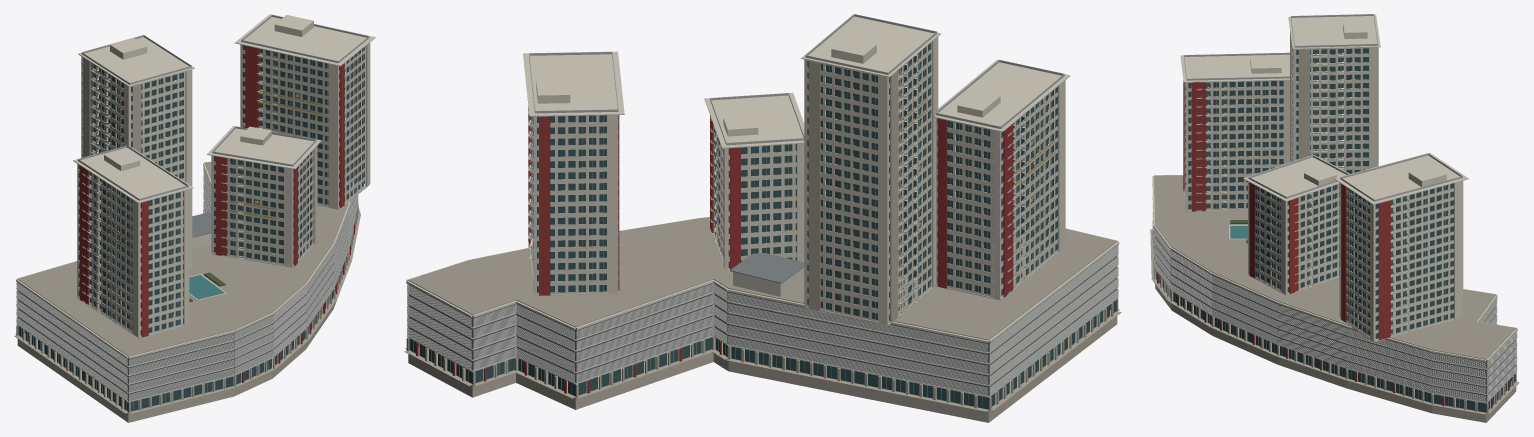
File: residensi_utmkl_lod0.glb
The picture shows the model from 3 angles, left to right: view 1: azimuth 30°, elevation 25°; view 2: azimuth 150°, elevation 25°; view 3: azimuth 270°, elevation 25°; orthographic projection. The views are drawn at different scales.
Parts seen in each view (by area): view 1: Ivory, SilkSilver, DeepGlass, Paving, Plinth, RedSpine, Graphite, LandingGlass, OchreInlay, Water, RoofDeck; view 2: Ivory, SilkSilver, DeepGlass, Paving, Graphite, Plinth, RedSpine, RoofDeck, LandingGlass; view 3: Ivory, SilkSilver, DeepGlass, Paving, Graphite, Plinth, RedSpine, LandingGlass.
Part boxes in pixels (box(x1,y1,x2,y2)): Ivory: box(16, 14, 375, 402); SilkSilver: box(16, 15, 369, 410); DeepGlass: box(18, 45, 364, 411); Paving: box(18, 135, 351, 356); Plinth: box(14, 58, 360, 422); RedSpine: box(80, 45, 364, 382); Graphite: box(18, 53, 348, 402); LandingGlass: box(90, 48, 351, 316); OchreInlay: box(89, 90, 323, 249); Water: box(189, 275, 224, 299); RoofDeck: box(192, 212, 231, 237); Ivory: box(406, 15, 1119, 397); SilkSilver: box(407, 14, 1118, 408); DeepGlass: box(409, 43, 1116, 409); Paving: box(408, 203, 1117, 340); Graphite: box(408, 61, 1116, 395); Plinth: box(404, 43, 1121, 422); RedSpine: box(416, 90, 1055, 393); RoofDeck: box(730, 251, 804, 283); LandingGlass: box(533, 57, 1022, 310); Ivory: box(1152, 14, 1517, 403); SilkSilver: box(1152, 14, 1517, 407); DeepGlass: box(1156, 48, 1515, 412); Paving: box(1154, 175, 1516, 359); Graphite: box(1155, 54, 1515, 401); Plinth: box(1150, 31, 1519, 422); RedSpine: box(1157, 81, 1509, 408); LandingGlass: box(1206, 49, 1414, 333).
Size of the model in its own units: 146 by 94.24 by 121.
